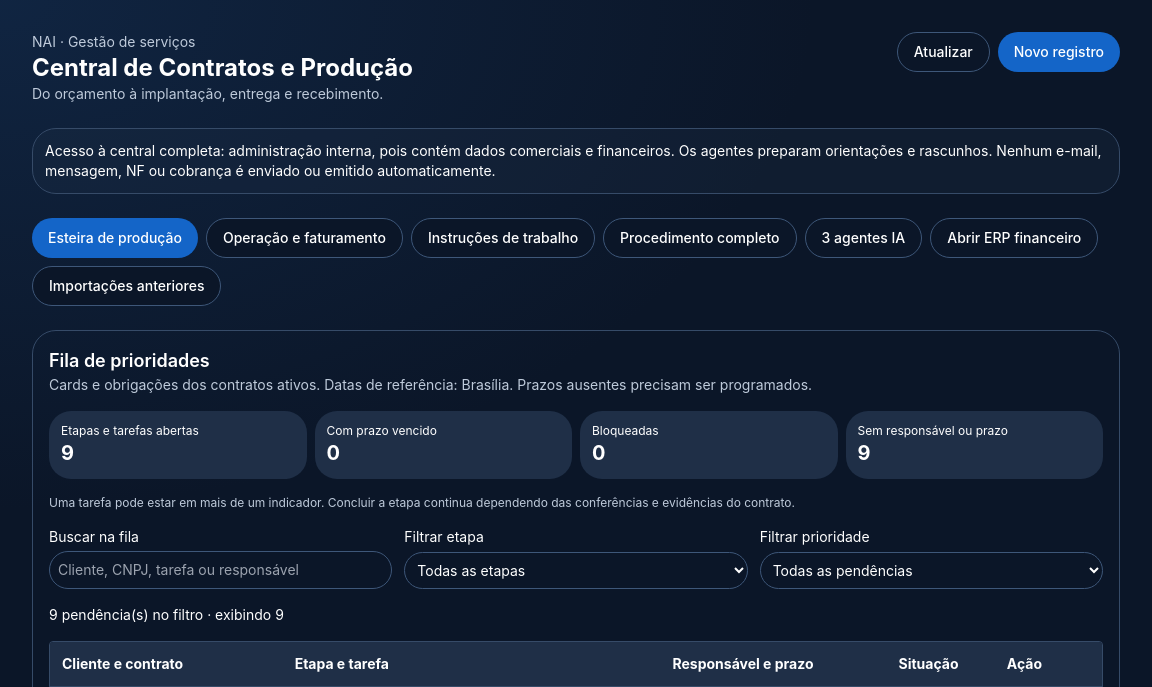
Scenario: production workspace › invalidates the billing query when refreshing the Central yields a new version
Click the button "Operação e faturamento" at (304, 238), box [206,218,403,258]
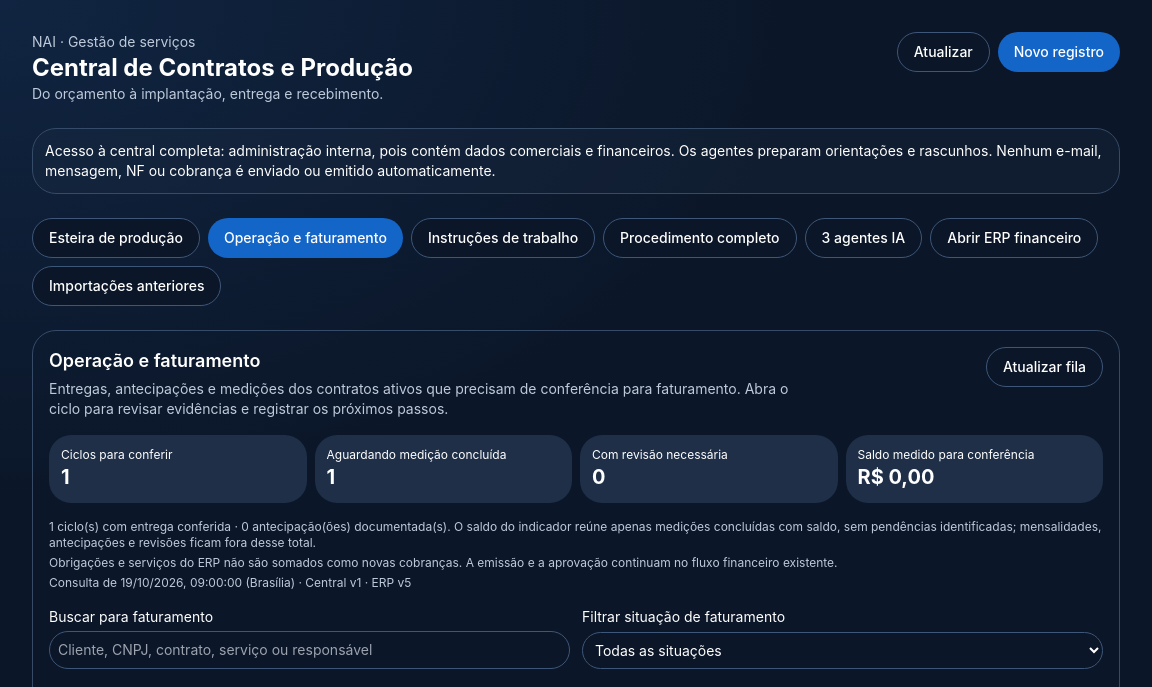
Click the button "Atualizar" at (943, 52), box [897,32,990,72]
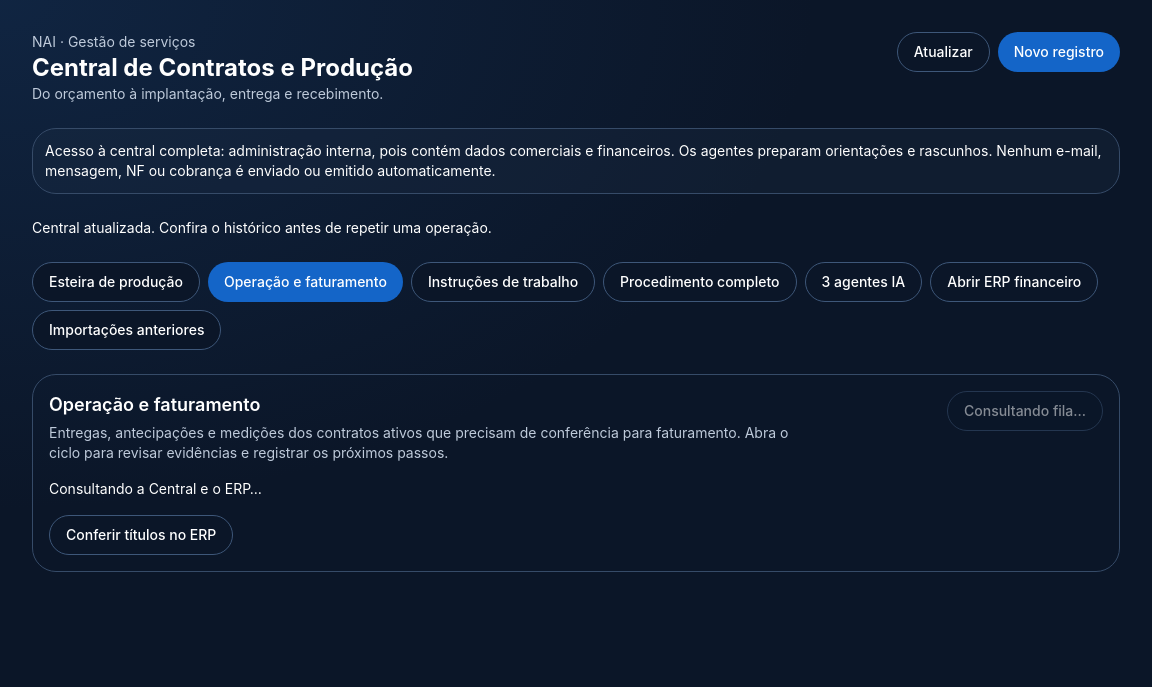
Check: the text "Consultando a Central e o ERP" is shown, box [49,480,262,497]
